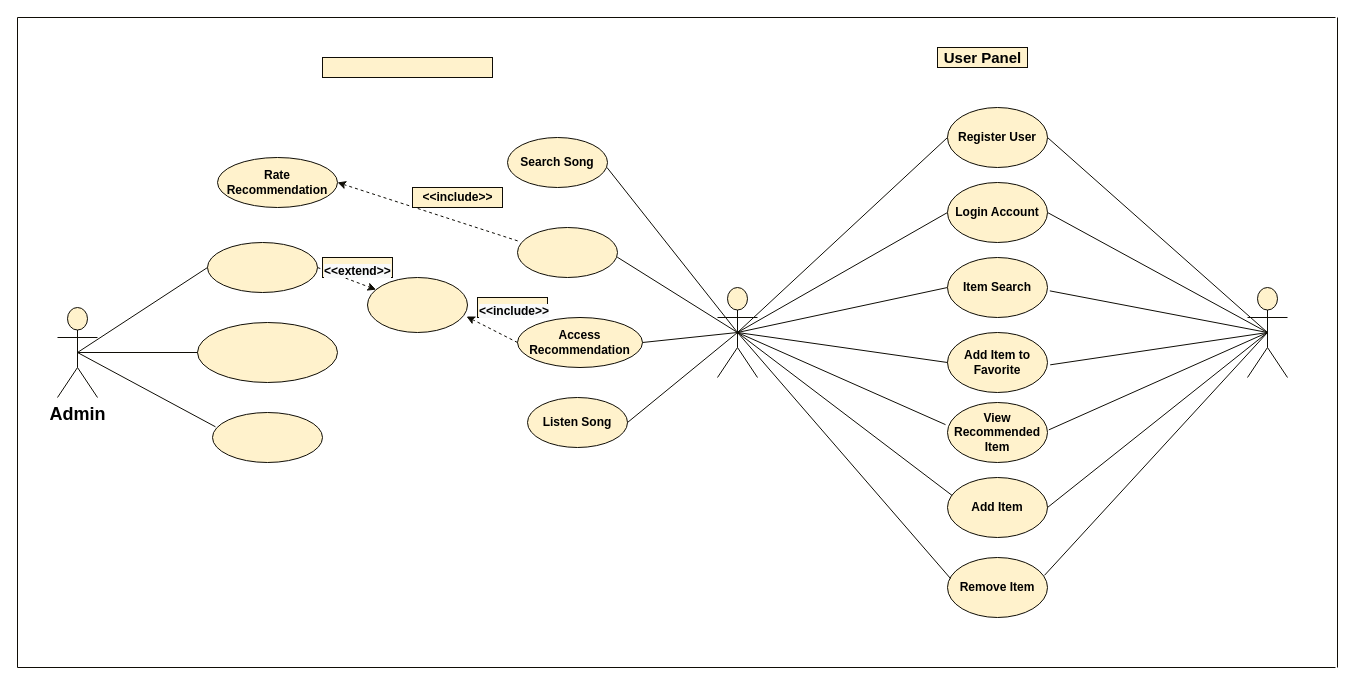
Some shapes in this 1356 by 686 pixel diagram are drawn without their labels. Each missing label, with the centre of its shape:
"Administration Panel" goes at point (407, 67).
"Calculate Similarity Score" goes at point (267, 352).
"Gather User Data" goes at point (262, 267).
"Inspect Info" goes at point (417, 304).
"Rate Song" goes at point (567, 252).
"Show Prediction" goes at point (267, 437).
"user 1" goes at point (737, 332).
"User 2" goes at point (1267, 332).
